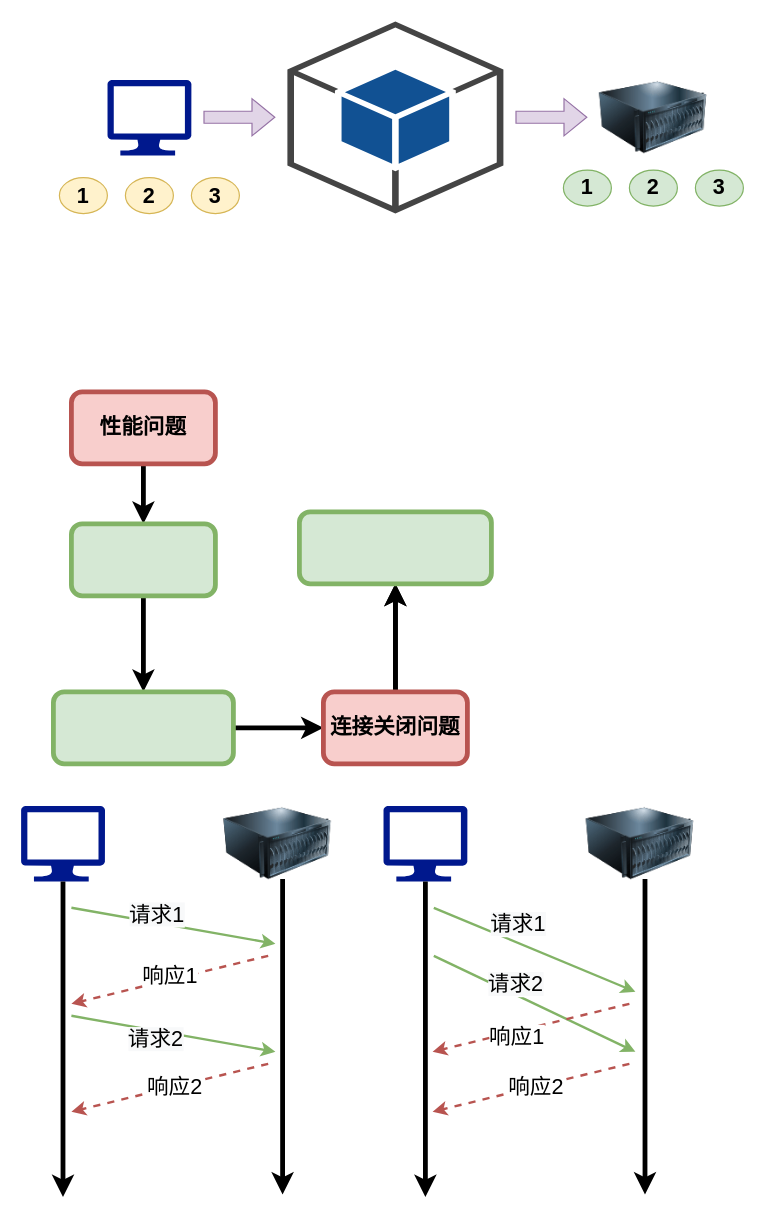
Some shapes in this 764 by 1229 pixel diagram are drawn without their labels. Here are the shapes that lost their labels. From the top down, the centre of each, then its label:
At [142,559]: "连接复用".
At [394,547]: "Content-Length".
At [142,727]: "Keep-Alive 机制".
